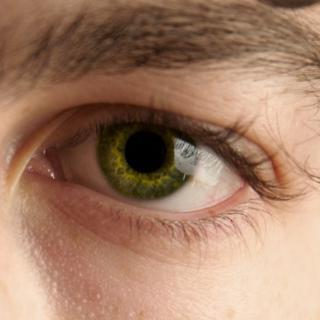pupil: (124, 128, 167, 172)
